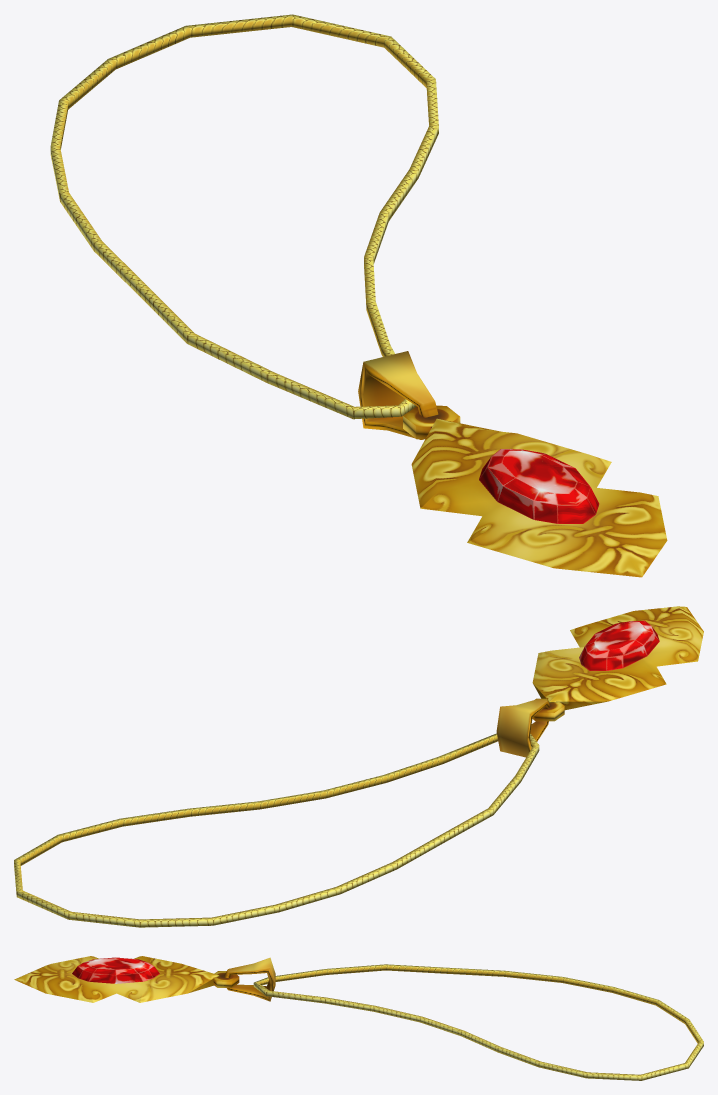
The model's file is pendant_09.fbx.
3 renders of one model, top to bottom at view 1: azimuth 30°, elevation 25°; view 2: azimuth 150°, elevation 25°; view 3: azimuth 270°, elevation 25°, orthographic. The views are drawn at different scales.
Parts seen in each view (by area): view 1: pendant_09; view 2: pendant_09; view 3: pendant_09.
Boxes of the visible parts, x1,y1,x2,y2 form: pendant_09: (50,14,667,577); pendant_09: (14,606,703,927); pendant_09: (14,956,703,1080).
Bounding box in the file's own units: 14.61 × 1.97 × 36.96.
